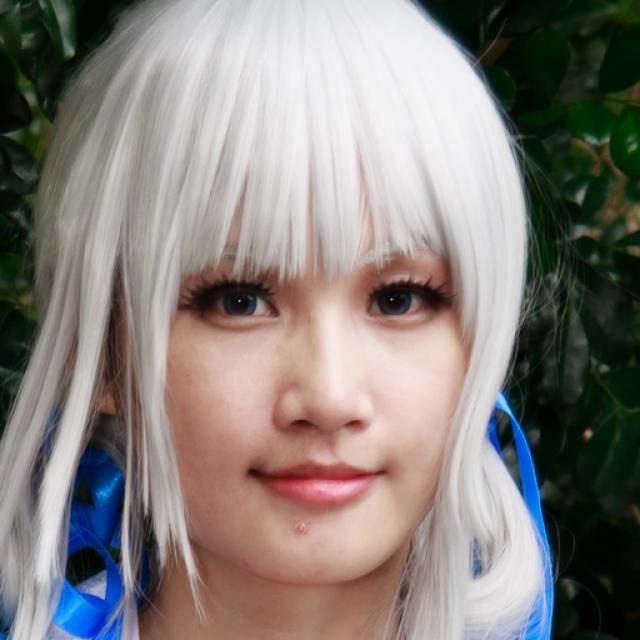content: (162, 138, 472, 586)
